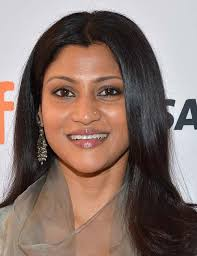indian_female: (10, 1, 152, 185)
